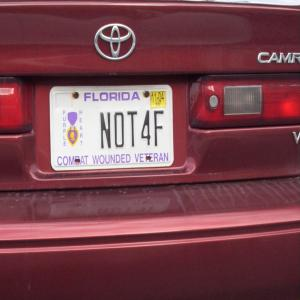Vehicle-registration-plate: (50, 86, 175, 172)
